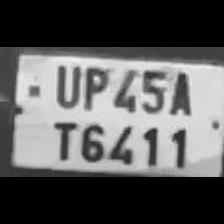1: (163, 121, 193, 169), (136, 120, 162, 166)
4: (108, 64, 138, 112), (105, 118, 135, 164)
5: (136, 65, 166, 113)
6: (76, 118, 106, 162)
A: (165, 66, 195, 118)
P: (78, 62, 108, 110)
T: (45, 116, 77, 162)
U: (48, 60, 80, 108)
